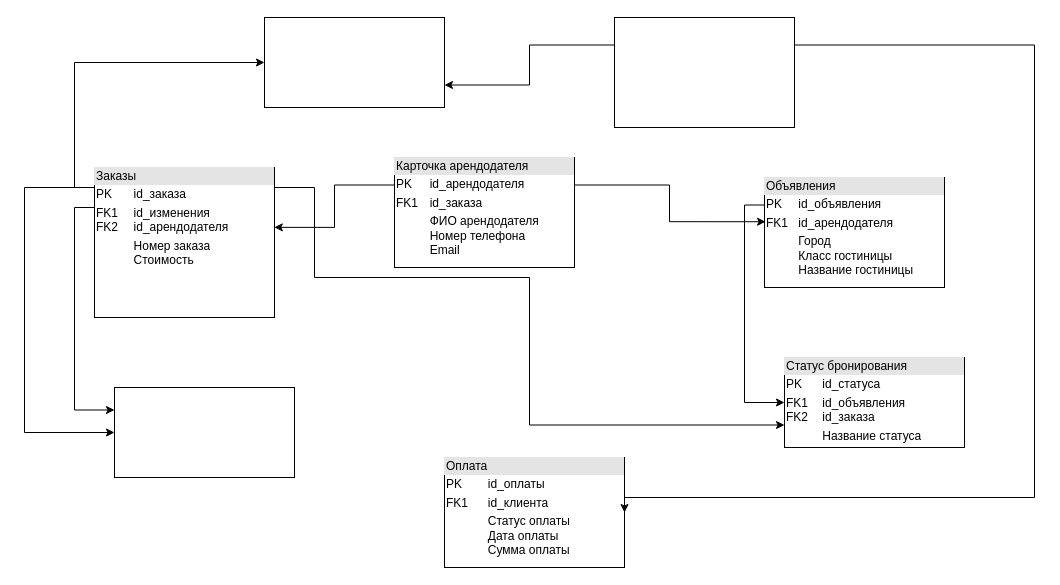
Some shapes in this 1060 by 585 pixel diagram are drawn without their labels. Each missing label, with the centre of its shape:
Заказы клиента PK id_заказа_клиента FK1 FK2 id_заказа id_клиента: (x=354, y=62)
Изменения PK id_изменения FK1 id_заказа Вид Инициатор: (x=204, y=432)
Карточка клиента PK id_клиента FK1 foreignKey ФИО клиента Номер телефона Email: (x=704, y=72)
